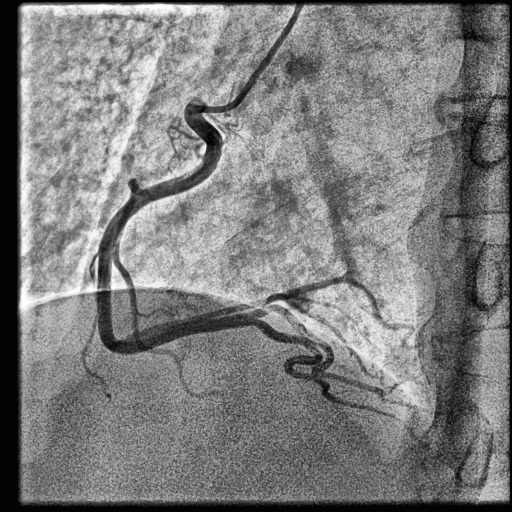pborca: (124, 275, 413, 348)
pda: (146, 320, 394, 417)
rca: (96, 105, 223, 354)
